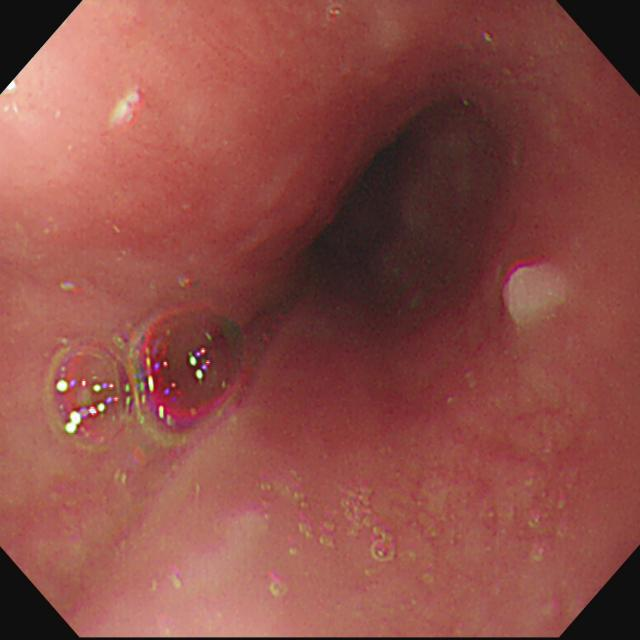E: (311, 146, 406, 266)
J: (502, 255, 567, 327), (110, 88, 146, 125)
T: (46, 306, 245, 448), (341, 485, 398, 564)
U: (65, 396, 120, 436), (504, 254, 555, 288), (188, 347, 213, 384), (56, 378, 115, 392)
